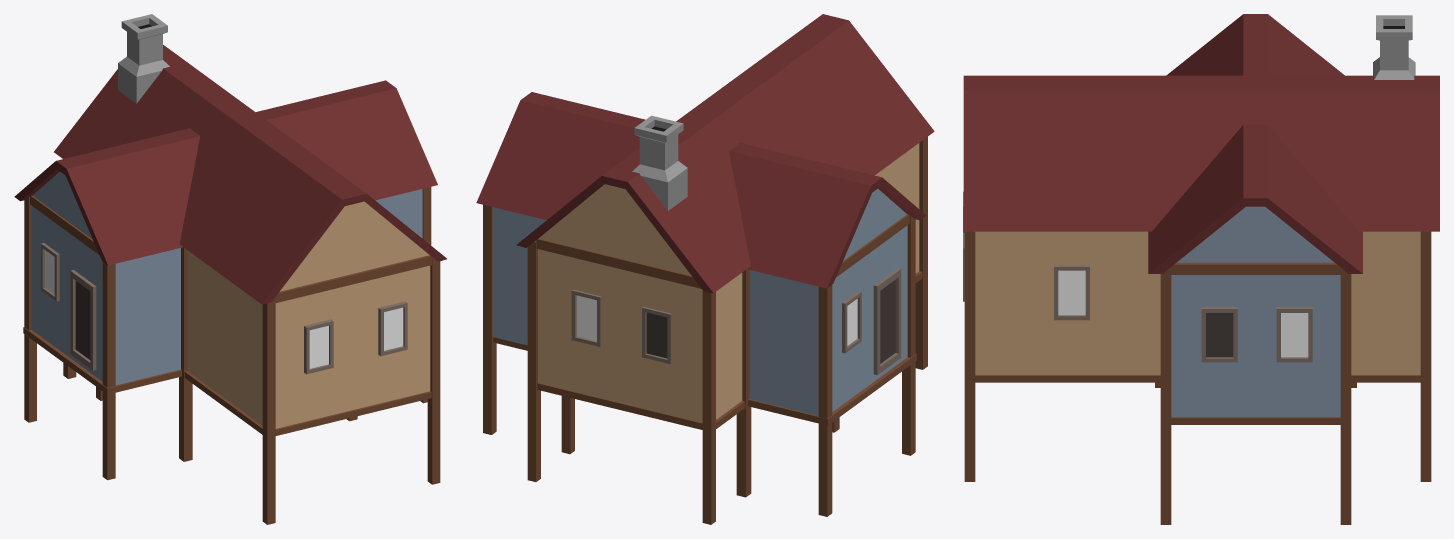
File: M_House_Building_8.fbx
The picture shows the model from 3 angles, left to right: view 1: azimuth 30°, elevation 25°; view 2: azimuth 150°, elevation 25°; view 3: azimuth 270°, elevation 25°; orthographic projection. The views are drawn at different scales.
Parts seen in each view (by area): view 1: M_House_Building_8; view 2: M_House_Building_8; view 3: M_House_Building_8.
Part boxes in pixels (<box>): M_House_Building_8: <box>14,14,446,524</box>; M_House_Building_8: <box>476,14,934,524</box>; M_House_Building_8: <box>963,14,1439,524</box>.
Bounding box in the file's own units: 792 × 798 × 866.
